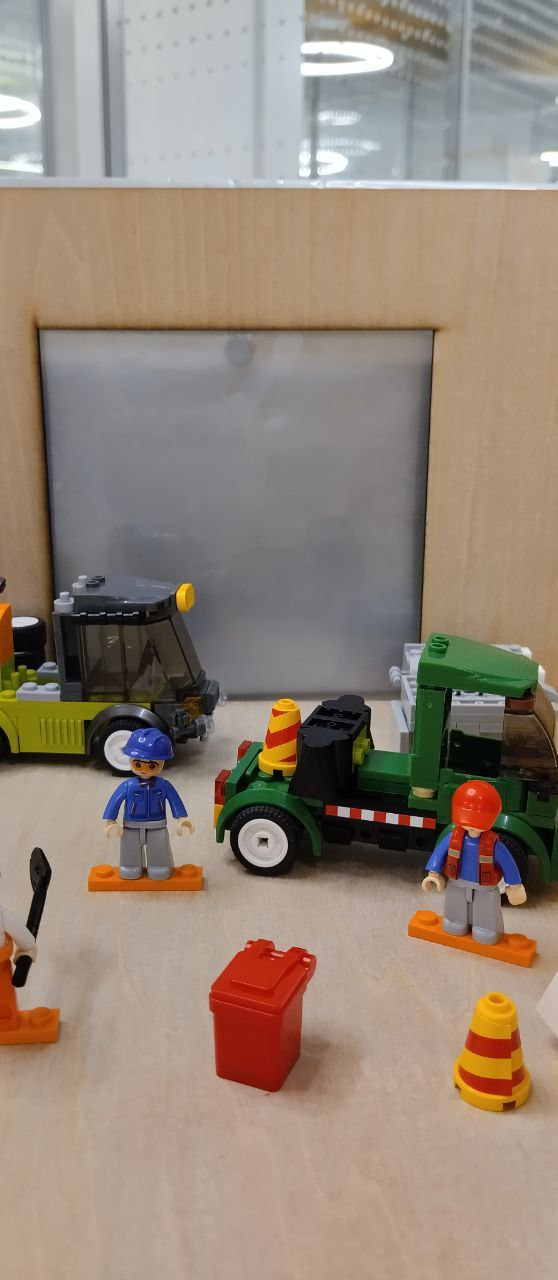Cone: (451, 988, 537, 1120), (251, 695, 299, 774)
Crane: (0, 572, 228, 776)
Object Black: (302, 696, 374, 776)
Object Red: (205, 934, 315, 1094)
Truck: (218, 629, 558, 900)
